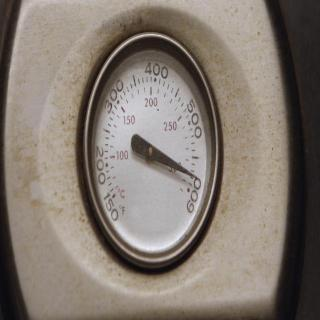gauge: (60, 1, 230, 273), (180, 170, 206, 194), (105, 187, 127, 210), (144, 142, 156, 162), (189, 171, 203, 183)
